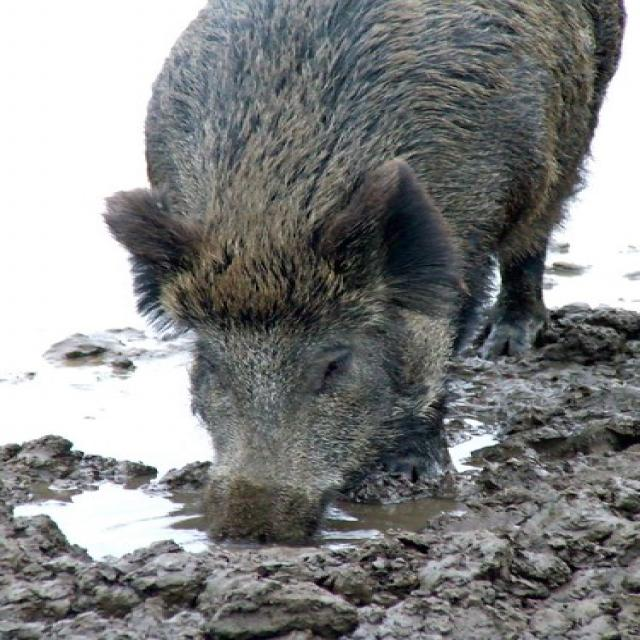boar: (66, 0, 640, 586)
